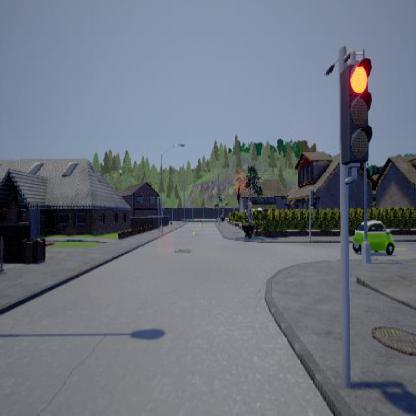traffic_light_red: (339, 48, 372, 184)
vehicle: (352, 218, 394, 254)
